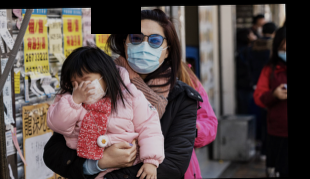with_mask: (124, 28, 168, 73), (70, 73, 106, 104), (276, 44, 287, 61)
